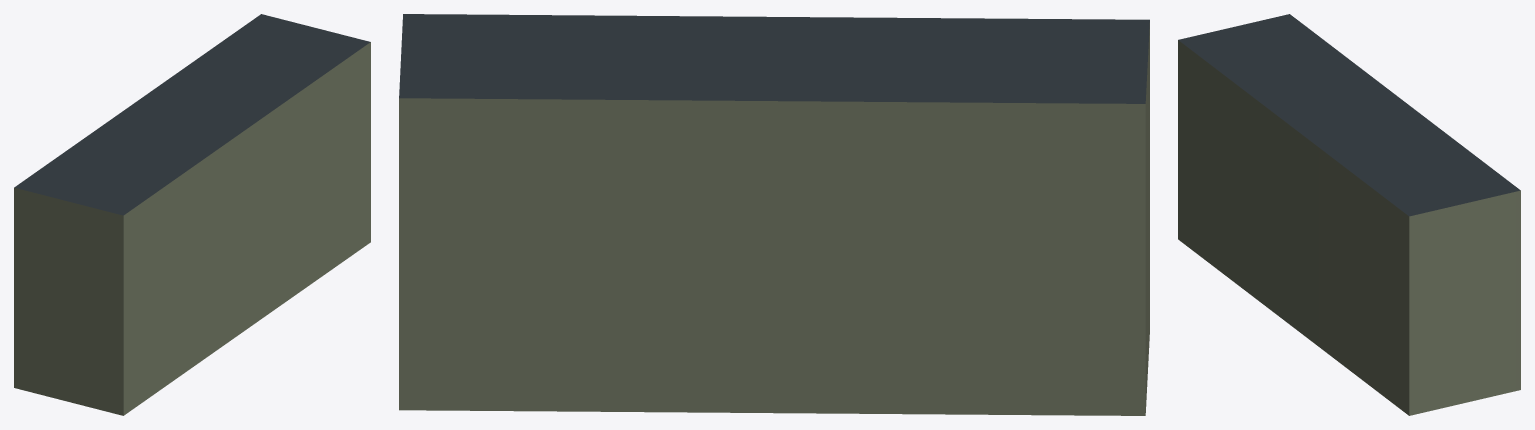
Rendered from nyc-1015282-0.glb.
3 views of the same model, side by side, from view 1: azimuth 30°, elevation 25°; view 2: azimuth 150°, elevation 25°; view 3: azimuth 270°, elevation 25° (orthographic). The views are drawn at different scales.
Parts seen in each view (by area): view 1: nyc-1015282-0; view 2: nyc-1015282-0; view 3: nyc-1015282-0.
Part boxes in pixels (box(x1,y1,x2,y2)): nyc-1015282-0: box(14, 14, 370, 415); nyc-1015282-0: box(399, 14, 1149, 415); nyc-1015282-0: box(1178, 14, 1520, 415).
Size of the model in its own units: 29.39 by 13.5 by 21.03.
